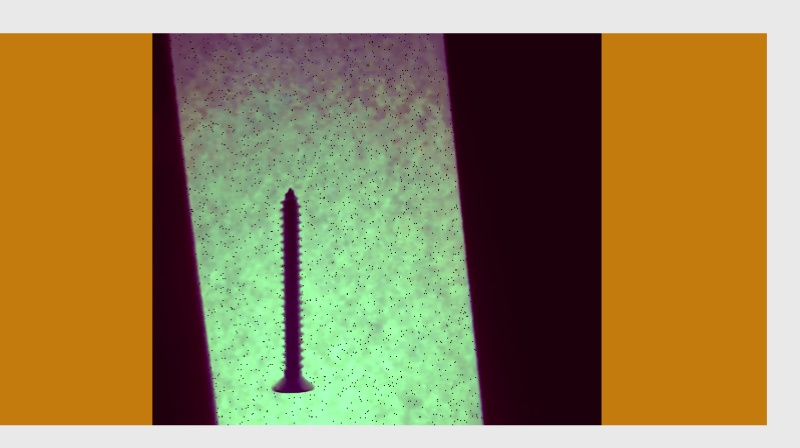S002: (266, 184, 318, 396)
